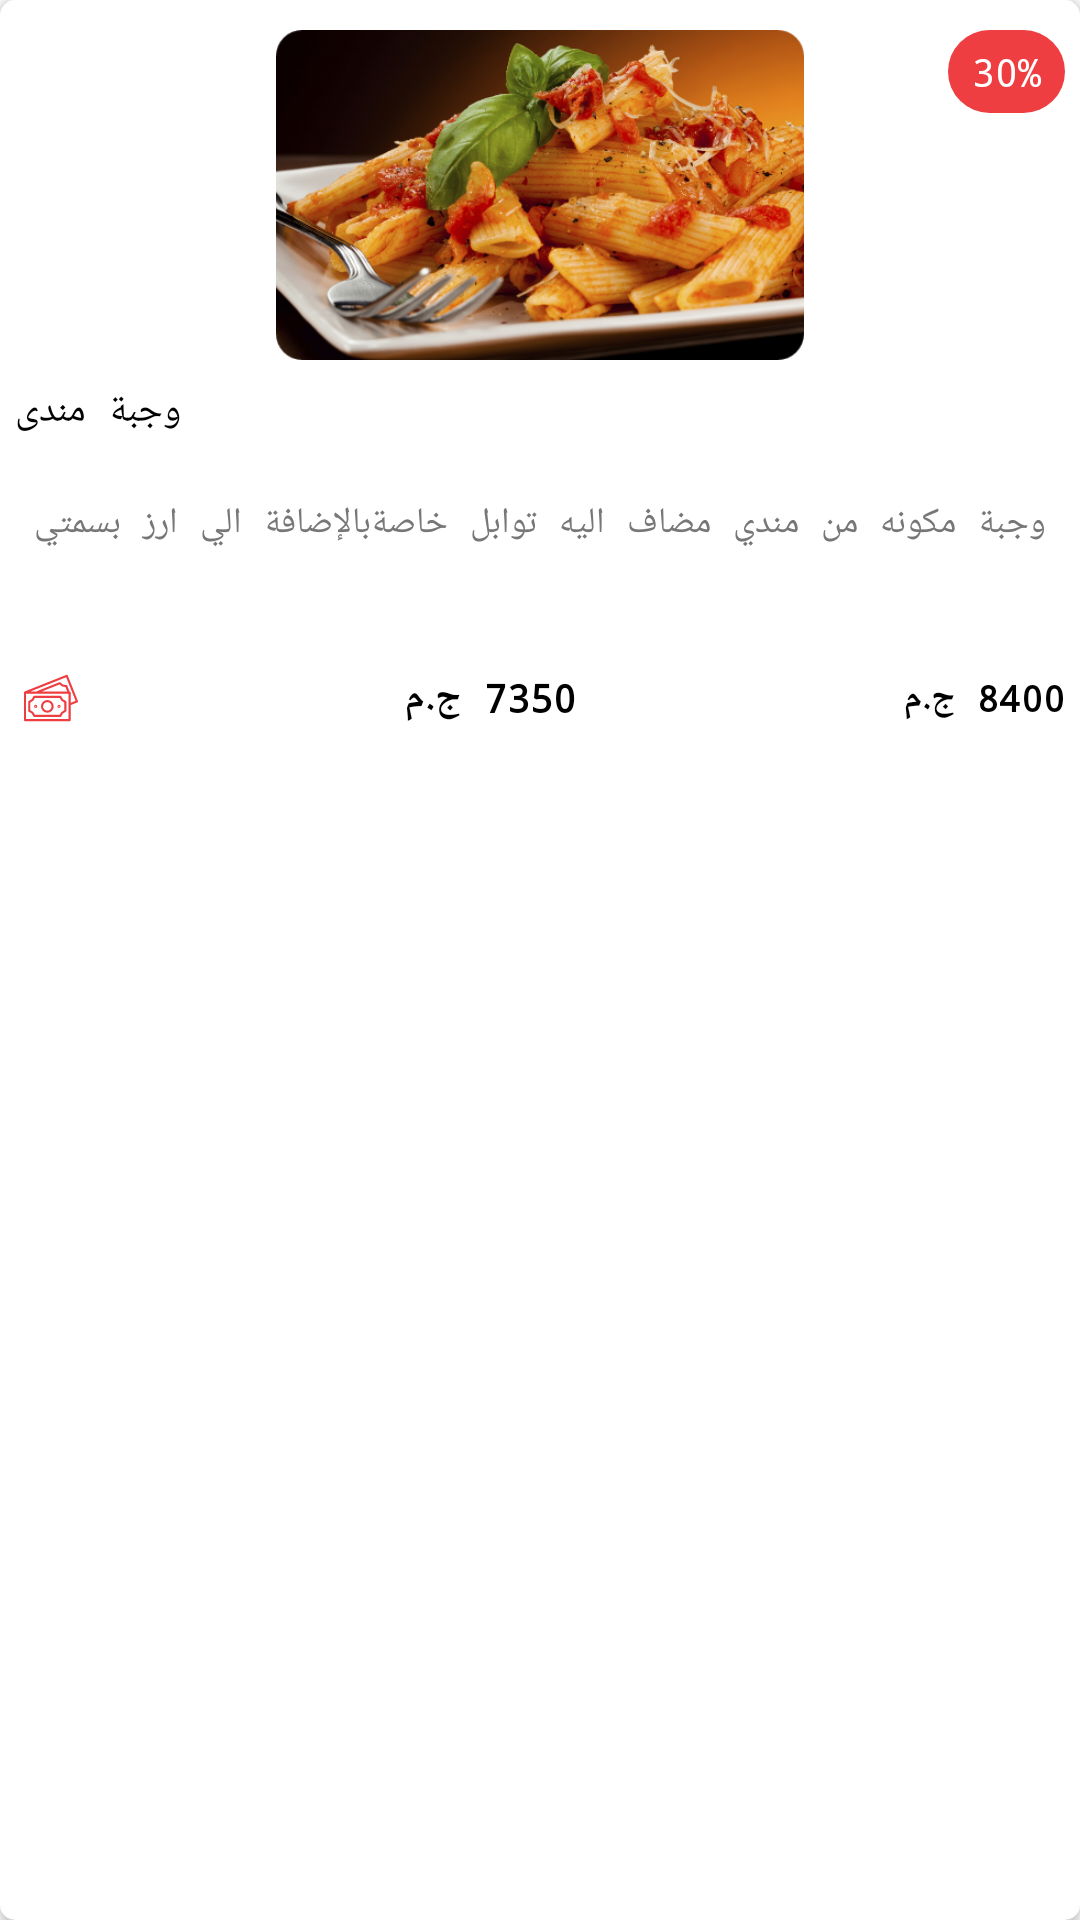

Icon bounding boxes for this 1080 x 1920 phone screenshot, format (x1, y1, x2, y2):
money: (24, 674, 78, 722)
